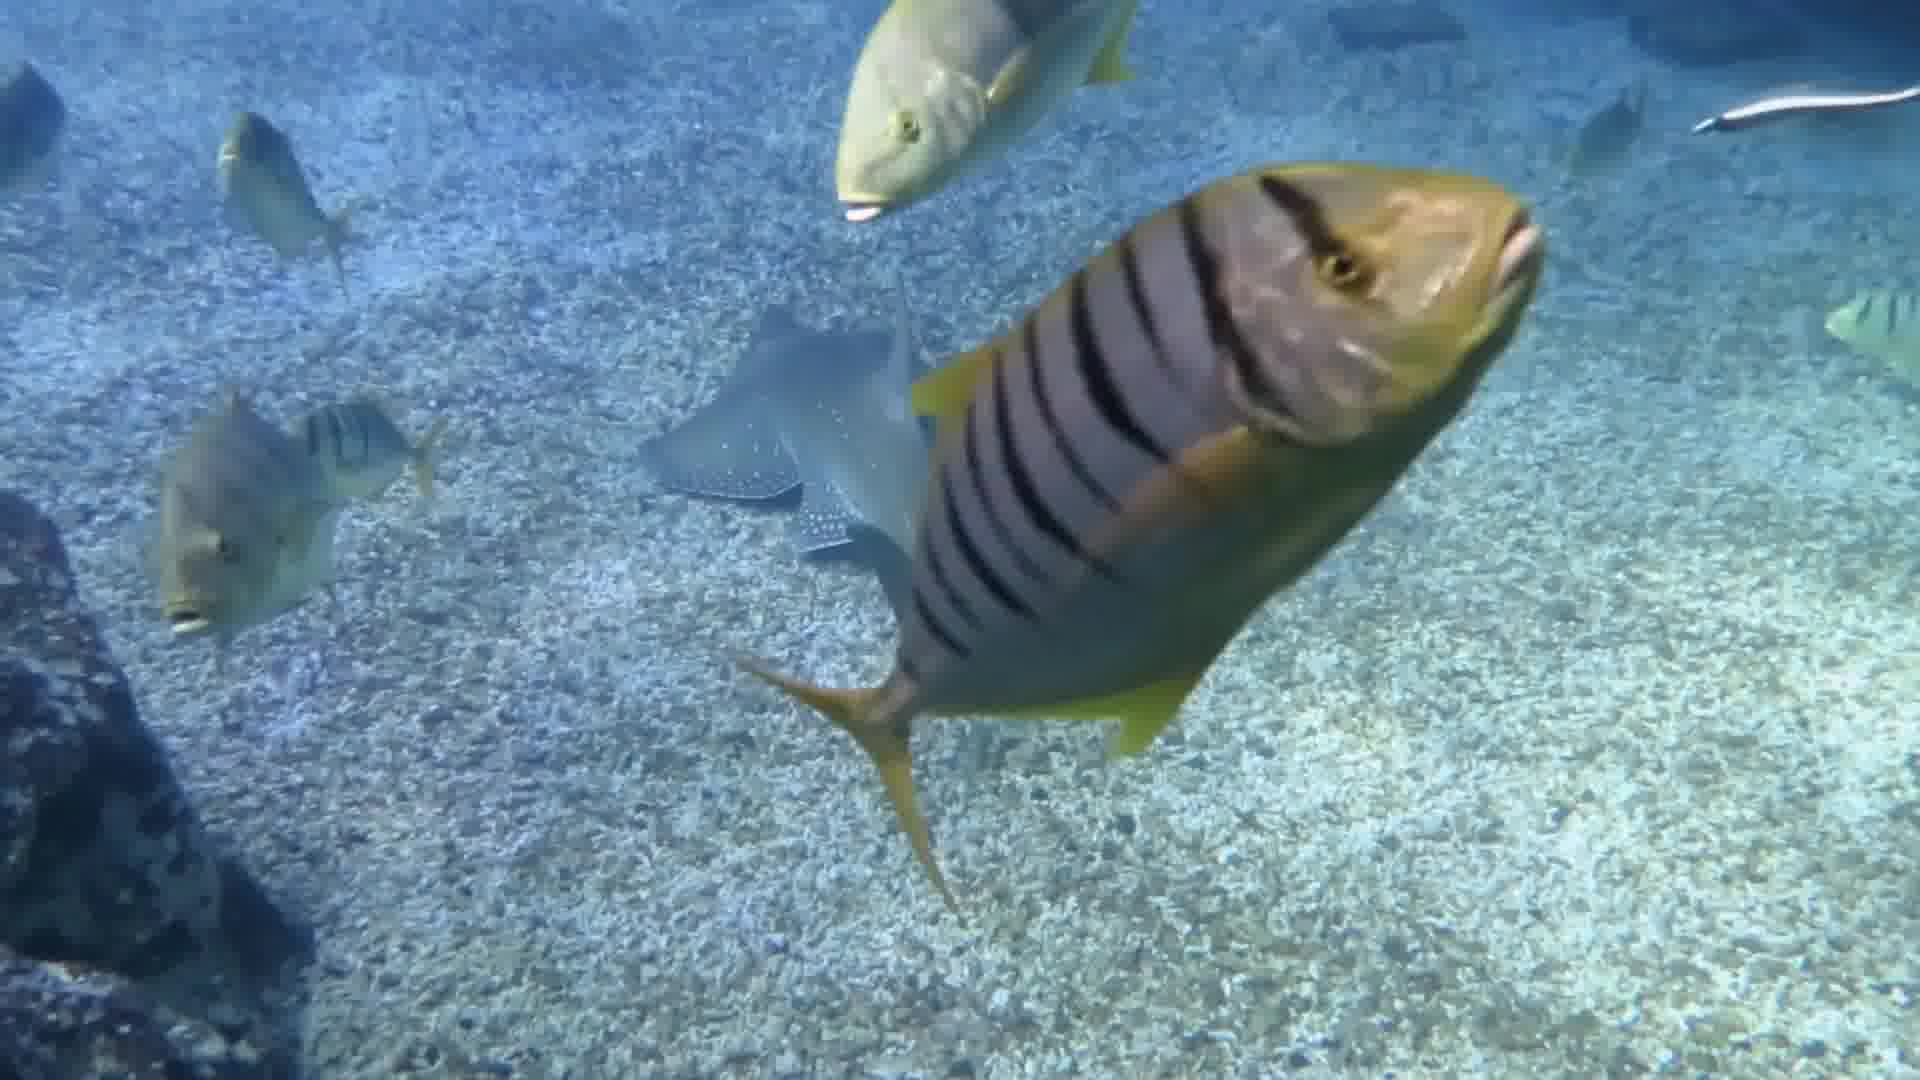Rhychobatus djiddensis: (592, 278, 920, 556)
